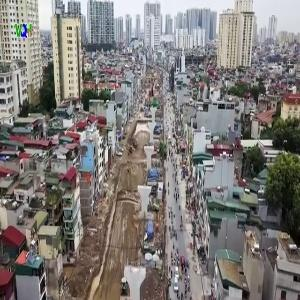drone: (253, 34, 296, 77)
